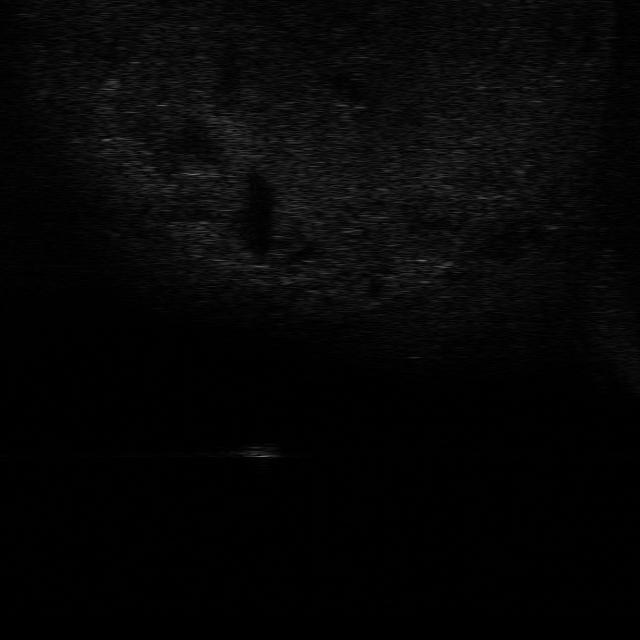cube: (235, 443, 283, 457)
